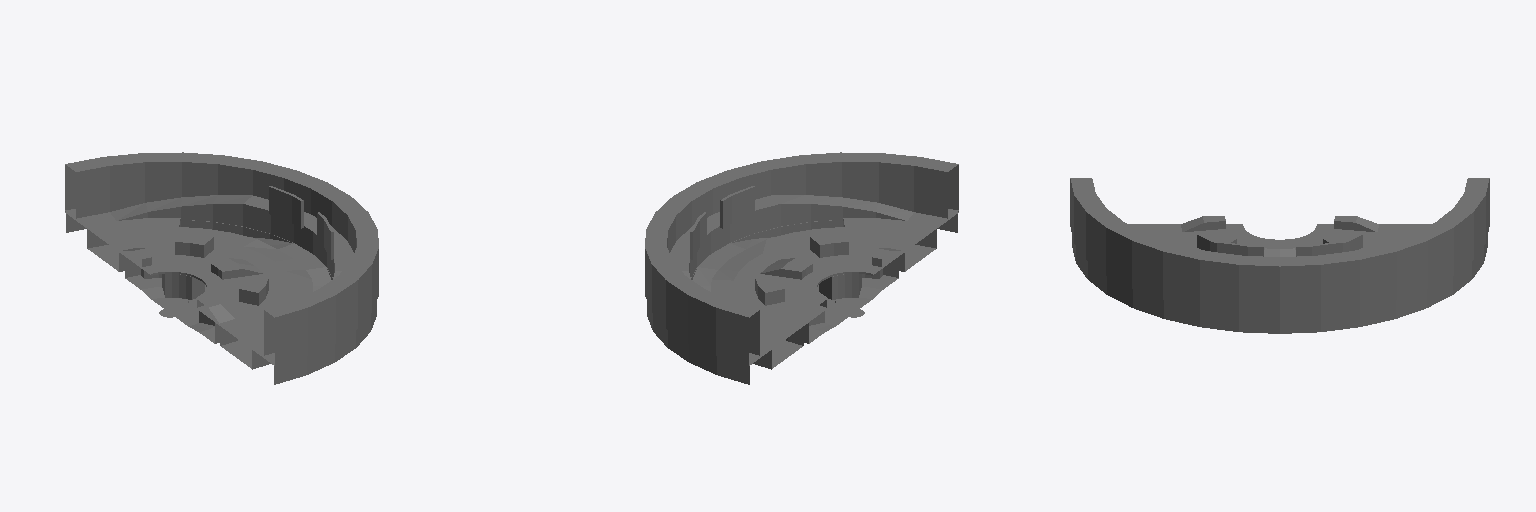
File: xkillArena1.obj
3 renders of one model, left to right at view 1: azimuth 30°, elevation 25°; view 2: azimuth 150°, elevation 25°; view 3: azimuth 270°, elevation 25°, orthographic.
Visible parts, largest first — view 1: Cylinder_002_Cylinder_001, Cylinder_001_Cylinder_002, Cylinder; view 2: Cylinder_002_Cylinder_001, Cylinder_001_Cylinder_002, Cylinder; view 3: Cylinder_002_Cylinder_001, Cylinder, Cylinder_001_Cylinder_002.
Part boxes in pixels (left/top/right/bottom): Cylinder_002_Cylinder_001: left=65, top=152, right=378, bottom=363; Cylinder_001_Cylinder_002: left=65, top=209, right=378, bottom=365; Cylinder: left=66, top=214, right=376, bottom=384; Cylinder_002_Cylinder_001: left=645, top=152, right=958, bottom=363; Cylinder_001_Cylinder_002: left=645, top=209, right=958, bottom=365; Cylinder: left=647, top=214, right=957, bottom=384; Cylinder_002_Cylinder_001: left=1070, top=178, right=1489, bottom=312; Cylinder: left=1072, top=236, right=1487, bottom=333; Cylinder_001_Cylinder_002: left=1070, top=216, right=1489, bottom=314.
Size of the model in its own units: 20.26 by 7.31 by 38.53.